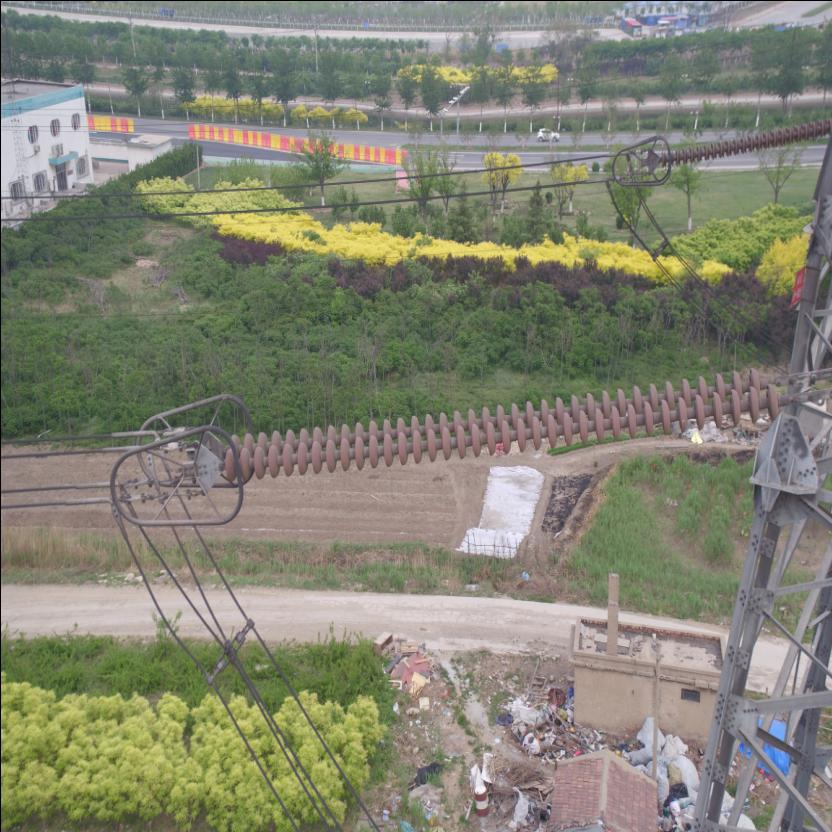insulator: (211, 359, 799, 484), (656, 112, 831, 168)
